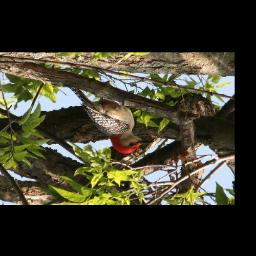Woodpecker: (64, 84, 155, 156)
